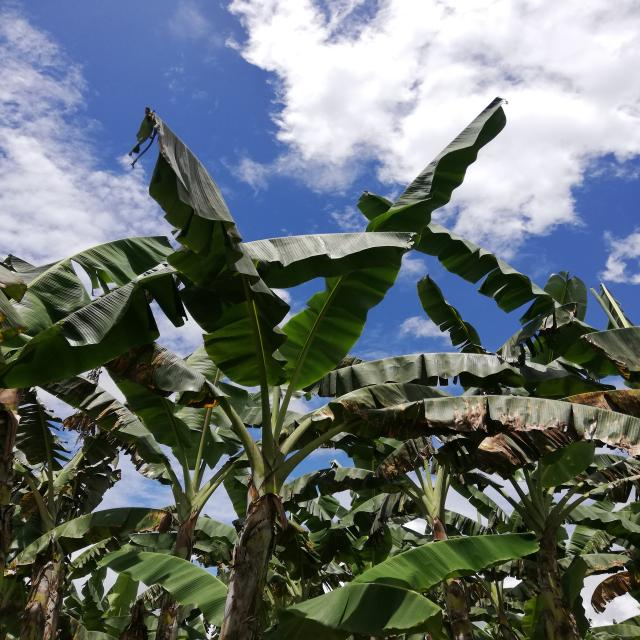Banana-plant: (200, 391, 329, 640)
